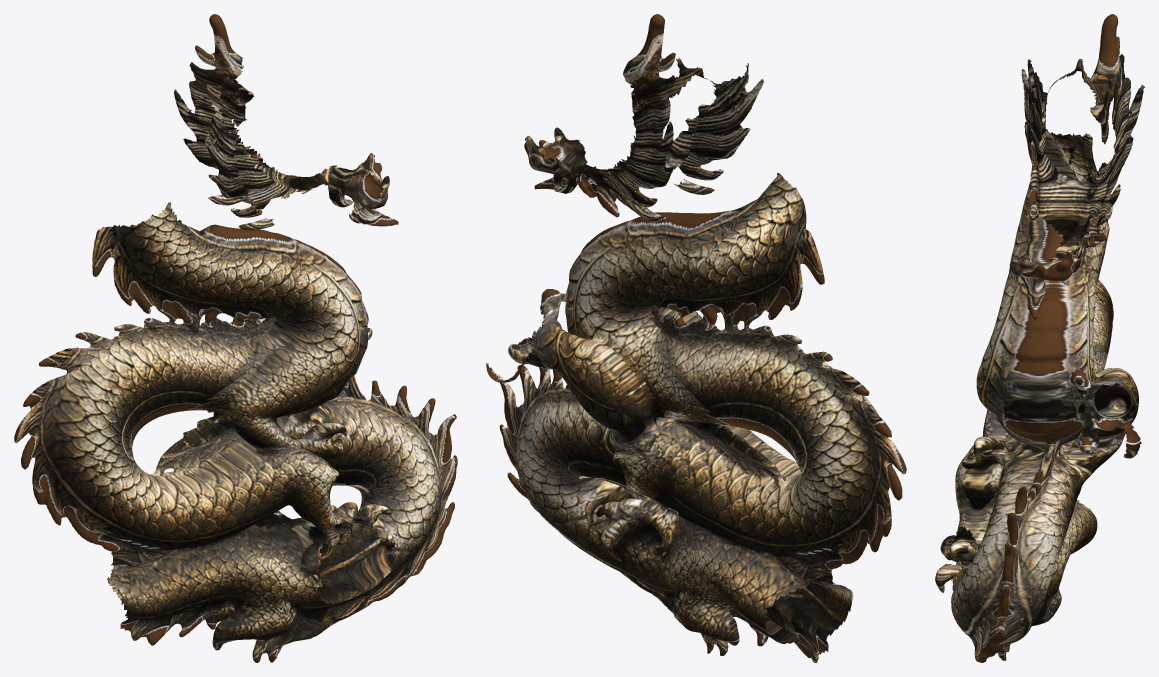
The model's file is Dragon_Body.glb.
3 views of the same model, side by side, from view 1: azimuth 30°, elevation 25°; view 2: azimuth 150°, elevation 25°; view 3: azimuth 270°, elevation 25° (orthographic). The views are drawn at different scales.
Visible parts, largest first — view 1: Dragon_Body; view 2: Dragon_Body; view 3: Dragon_Body.
Boxes of the visible parts, bbox=[...] form: Dragon_Body: bbox=[14, 14, 457, 662]; Dragon_Body: bbox=[486, 14, 906, 662]; Dragon_Body: bbox=[935, 14, 1144, 662].
Bounding box in the file's own units: 0.2418 × 0.35 × 0.1035.
1 material, 1 textured.
